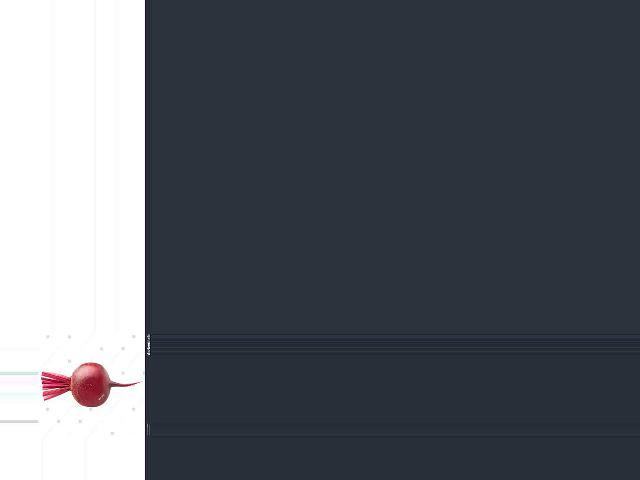beet: (41, 363, 142, 407)
